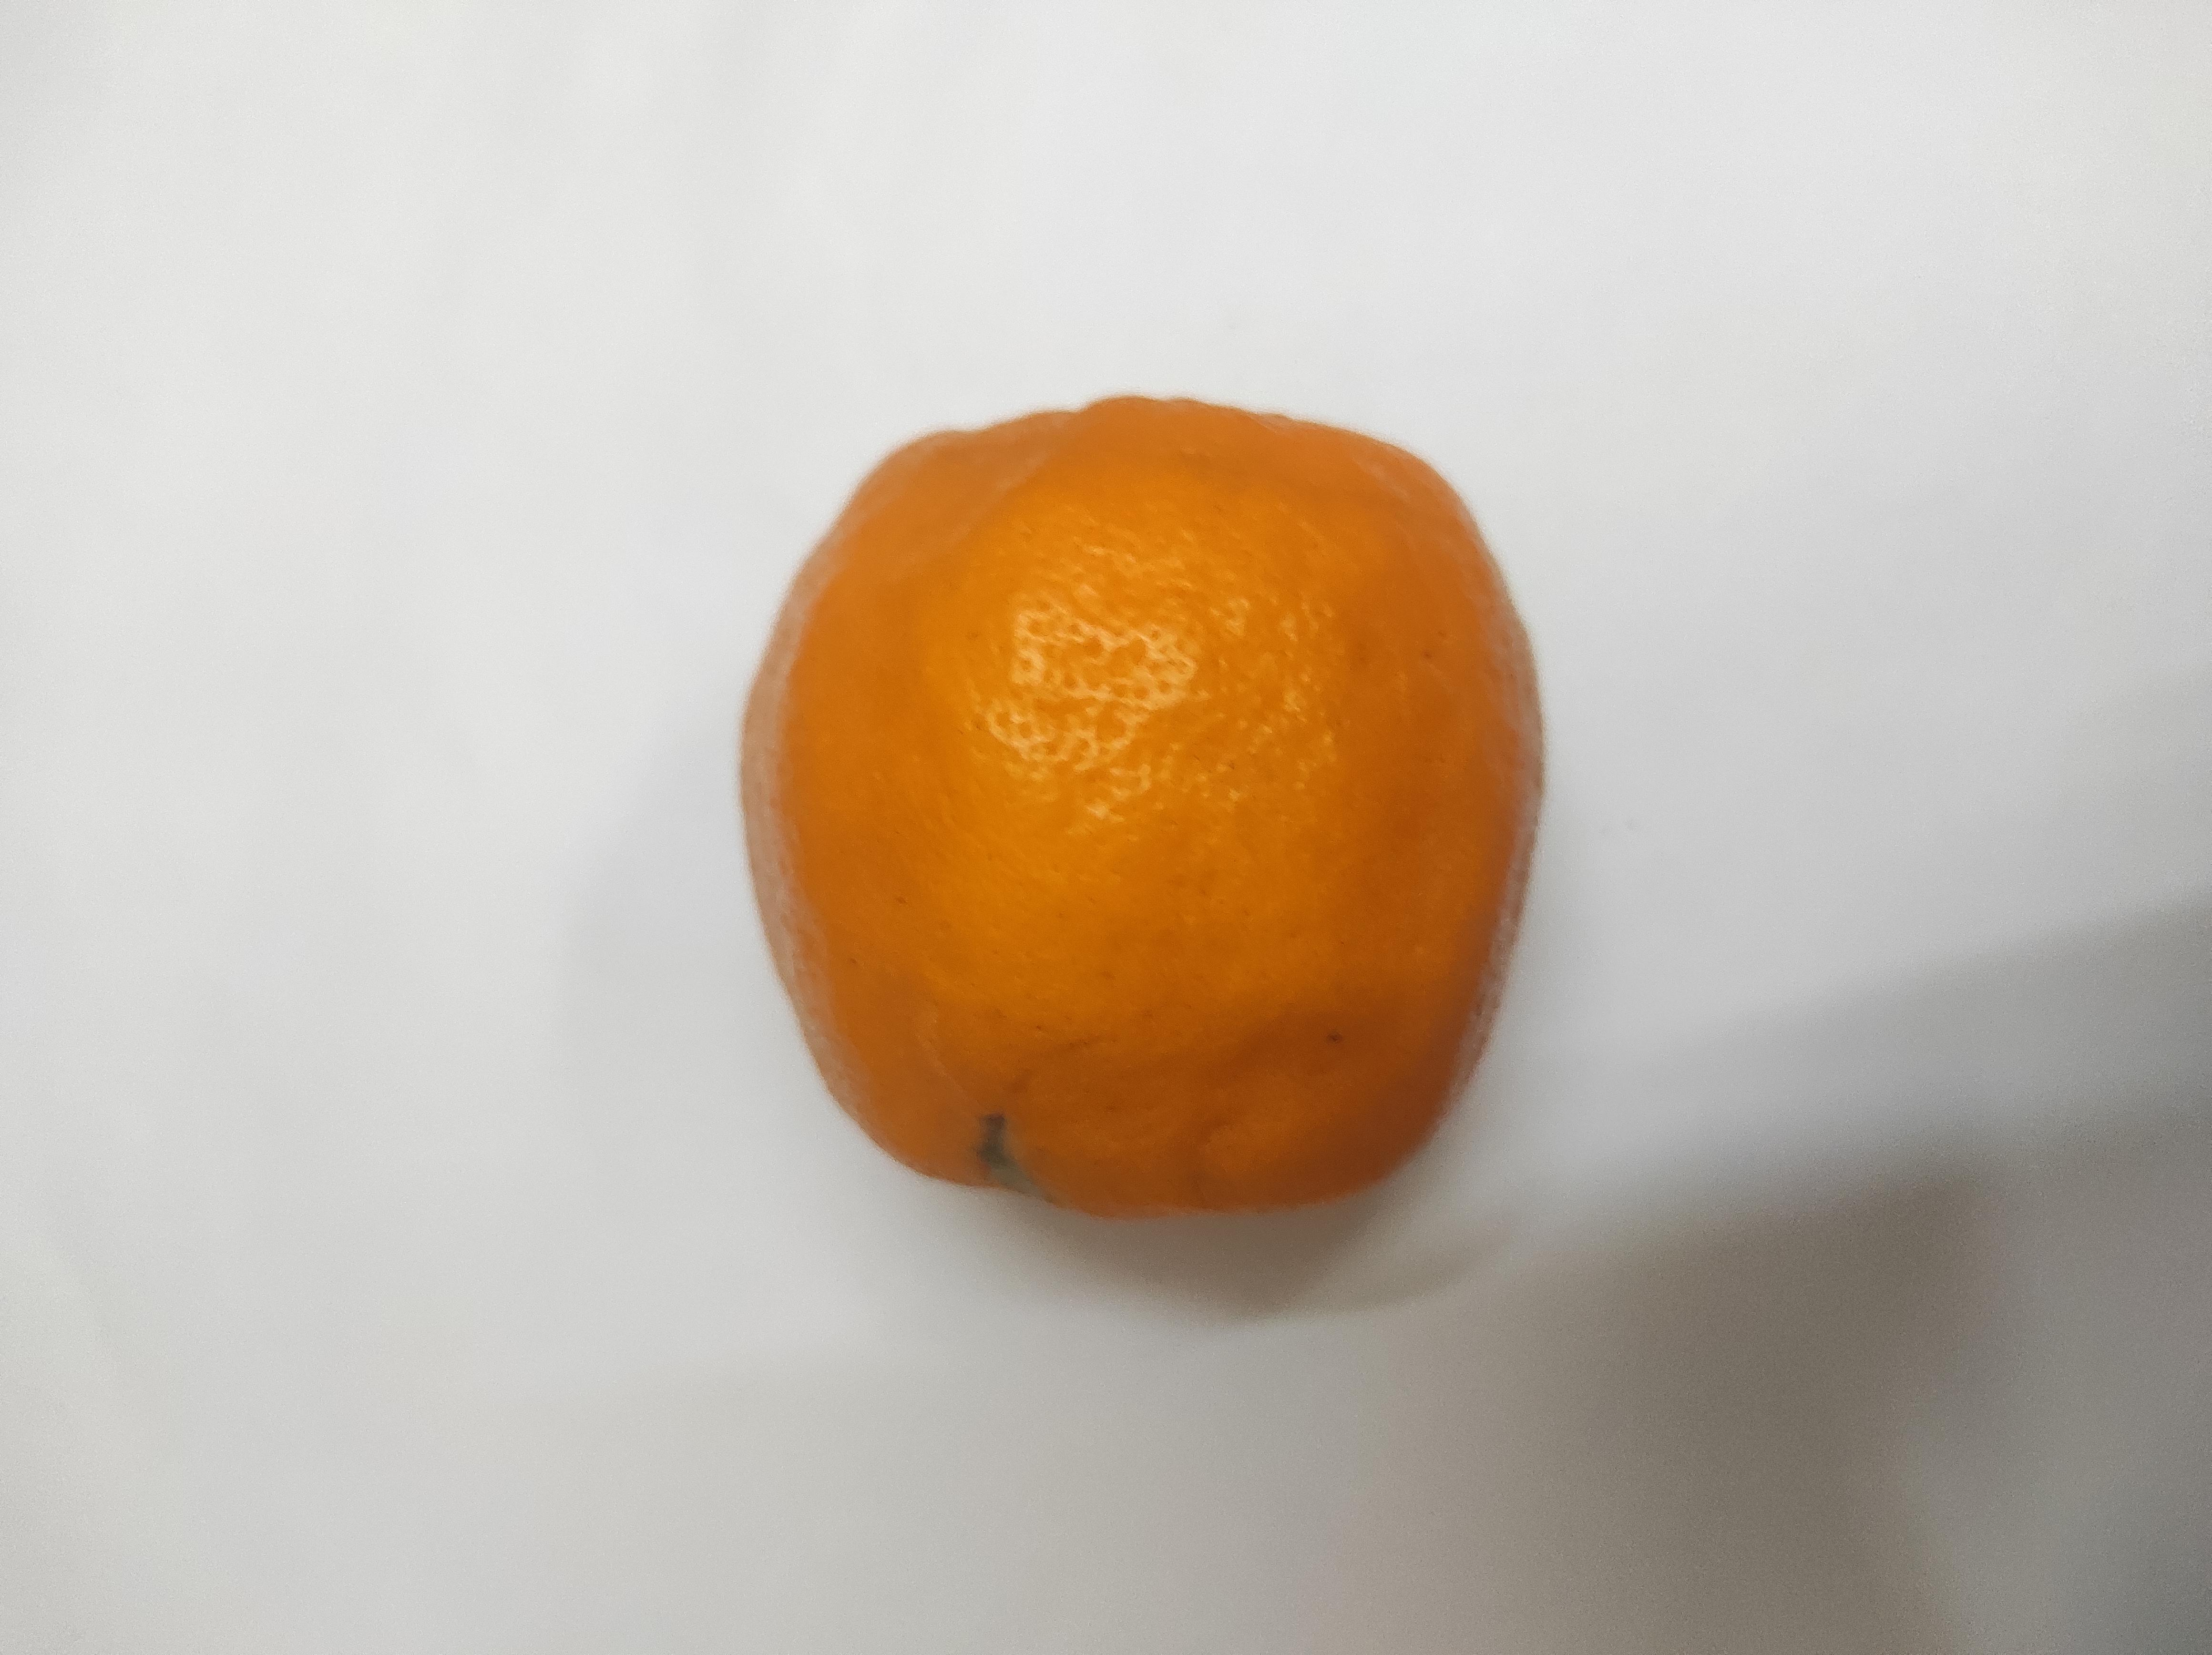Ripe: (586, 556, 1669, 1163)
